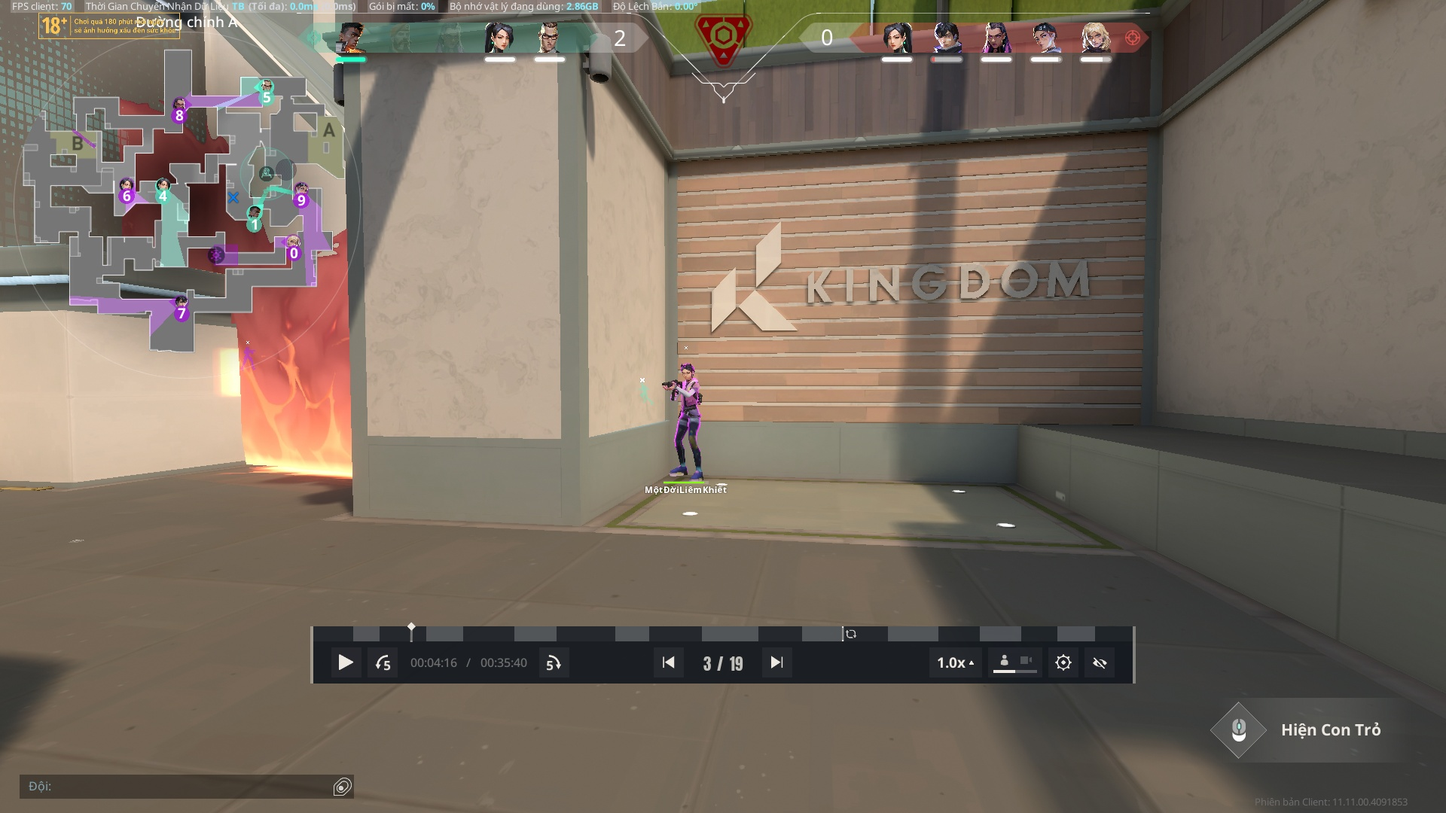body: (676, 378, 703, 422)
head: (680, 362, 694, 380)
